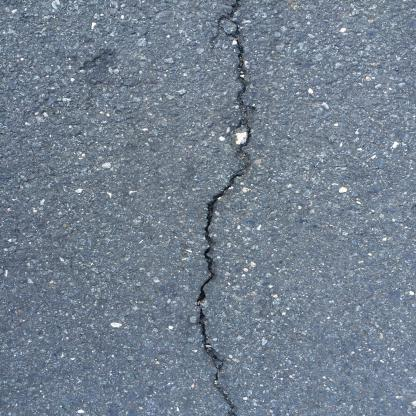Cracks: (184, 0, 262, 415)
